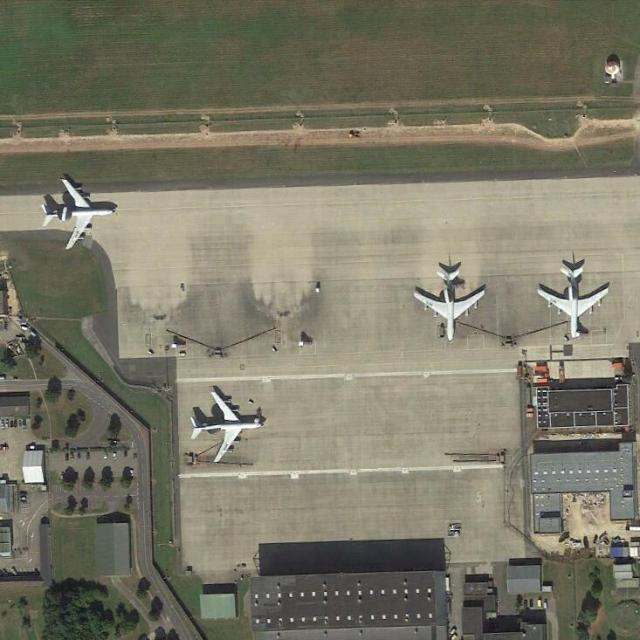fighter jet: (26, 169, 120, 251), (533, 251, 615, 340), (184, 383, 270, 465), (408, 255, 485, 344)
